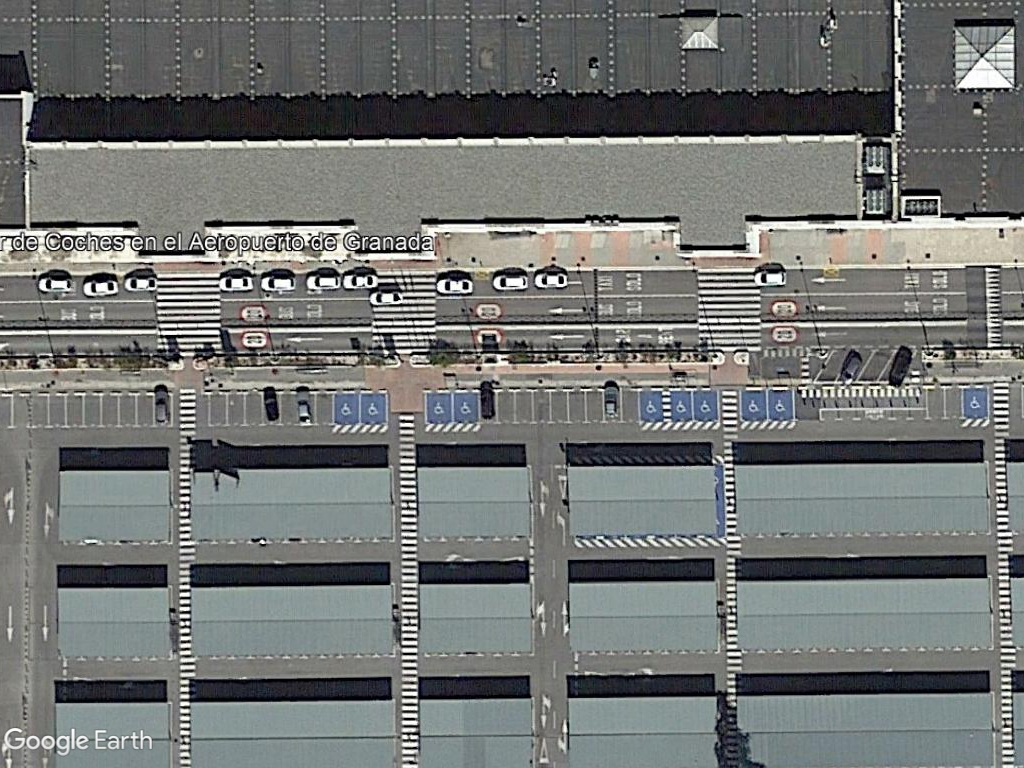car: (428, 271, 480, 297), (474, 377, 500, 425), (31, 273, 82, 297), (290, 385, 316, 432), (150, 385, 175, 432), (748, 265, 794, 290), (119, 270, 163, 294), (488, 269, 532, 293), (838, 348, 863, 390), (81, 274, 121, 300), (213, 271, 258, 294), (304, 270, 346, 294), (600, 379, 622, 424), (259, 386, 284, 425), (258, 271, 300, 294), (339, 270, 380, 293), (365, 286, 404, 310), (530, 269, 572, 290)
other: (884, 346, 915, 389)
